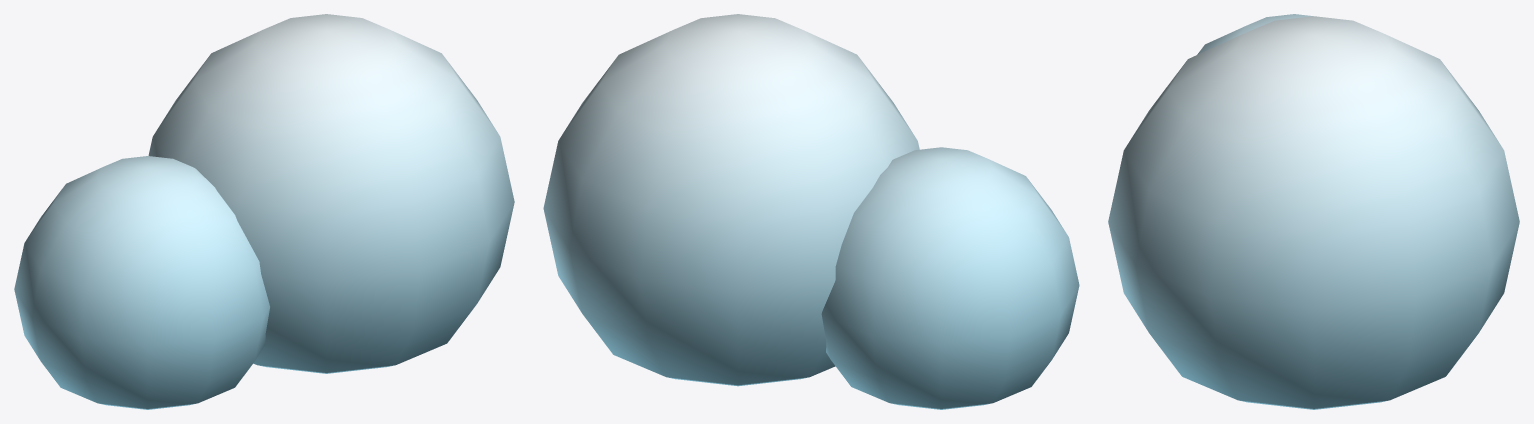
Rendered from Cloud_03.glb.
3 renders of one model, left to right at view 1: azimuth 30°, elevation 25°; view 2: azimuth 150°, elevation 25°; view 3: azimuth 270°, elevation 25°, orthographic. The views are drawn at different scales.
Parts seen in each view (by area): view 1: Cloud_03; view 2: Cloud_03; view 3: Cloud_03.
Part boxes in pixels (x1,y1,x2,y2): Cloud_03: [14, 14, 514, 409]; Cloud_03: [543, 14, 1079, 409]; Cloud_03: [1108, 14, 1519, 409].
Size of the model in its own units: 2.86 by 1.71 by 2.
Materials: 1 (1 with a texture image).
